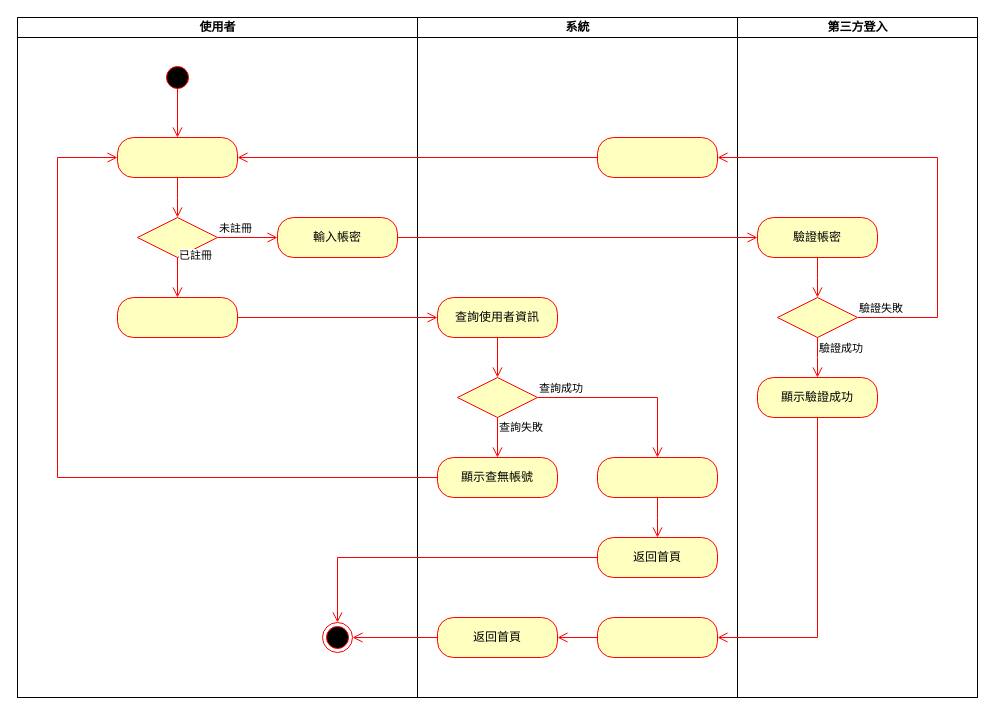
Image size: 995x715. Some labels were removed from this diagram. The shapes that lost their labels are listed below. From the top down, each one's centre as x and y in pixels, then its label:
(177,157): 登入介面
(657,157): 顯示驗證失敗
(177,317): 輸入帳密
(657,477): 顯示登入成功
(657,637): 將帳號紀錄至資料庫
